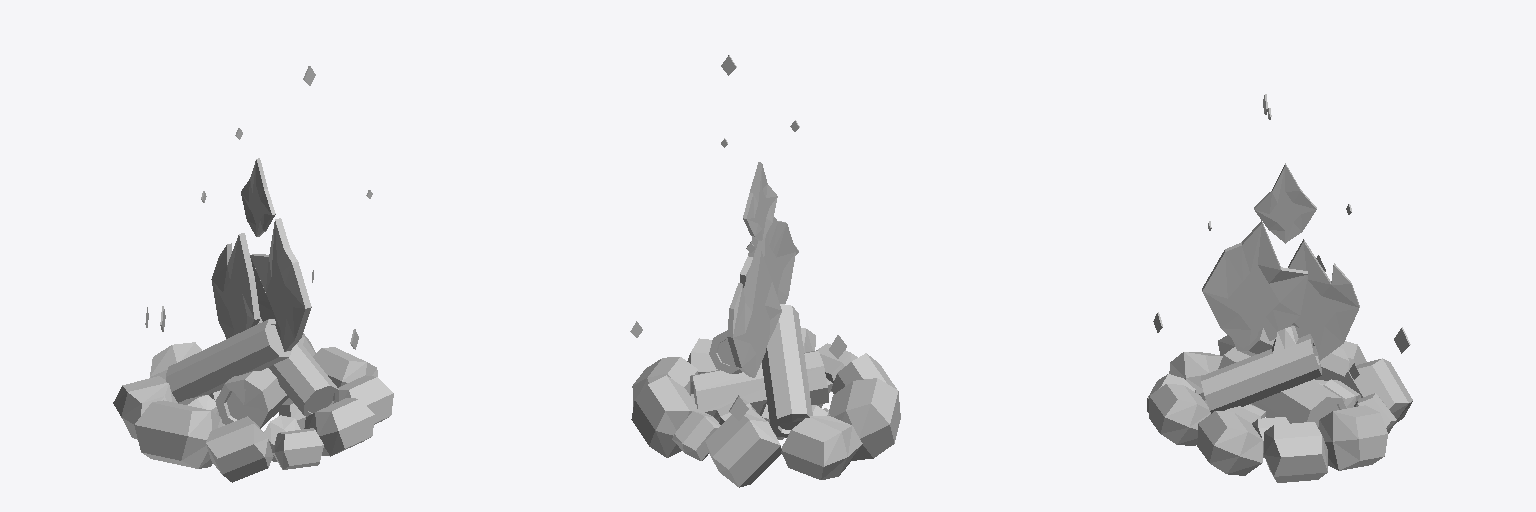
The model's file is Campfire.obj.
The picture shows the model from 3 angles: view 1: azimuth 30°, elevation 25°; view 2: azimuth 150°, elevation 25°; view 3: azimuth 270°, elevation 25°; orthographic projection.
Visible parts, largest first — view 1: campfire_01_Plane.003; view 2: campfire_01_Plane.003; view 3: campfire_01_Plane.003.
Part boxes in pixels (left/top/right/bottom): campfire_01_Plane.003: left=113, top=66, right=393, bottom=482; campfire_01_Plane.003: left=630, top=55, right=900, bottom=487; campfire_01_Plane.003: left=1147, top=94, right=1412, bottom=482.
Bounding box in the file's own units: 5.44 × 7.87 × 5.16.